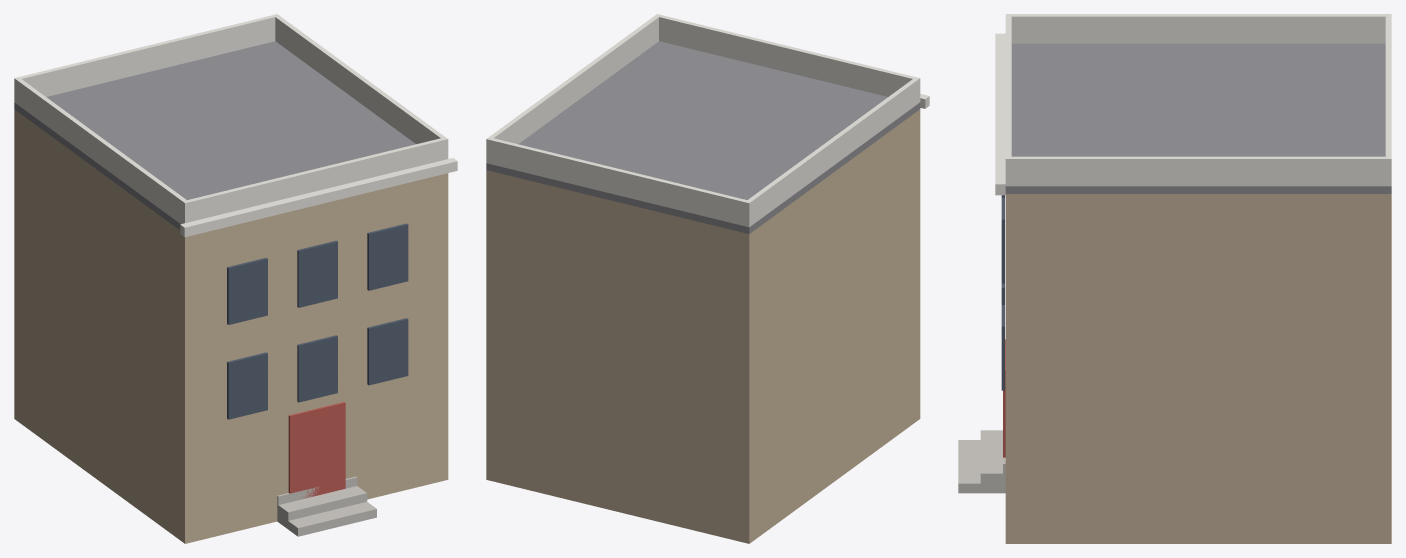
File: Brownstone_B.glb
The picture shows the model from 3 angles, left to right: view 1: azimuth 30°, elevation 25°; view 2: azimuth 150°, elevation 25°; view 3: azimuth 270°, elevation 25°; orthographic projection. The views are drawn at different scales.
Parts seen in each view (by area): view 1: Brownstone_B; view 2: Brownstone_B; view 3: Brownstone_B.
Boxes of the visible parts, x1=… form: Brownstone_B: x1=14, y1=14, x2=457, y2=543; Brownstone_B: x1=486, y1=14, x2=929, y2=543; Brownstone_B: x1=958, y1=14, x2=1391, y2=543.
Bounding box in the file's own units: 8.3 × 9.9 × 10.1.
